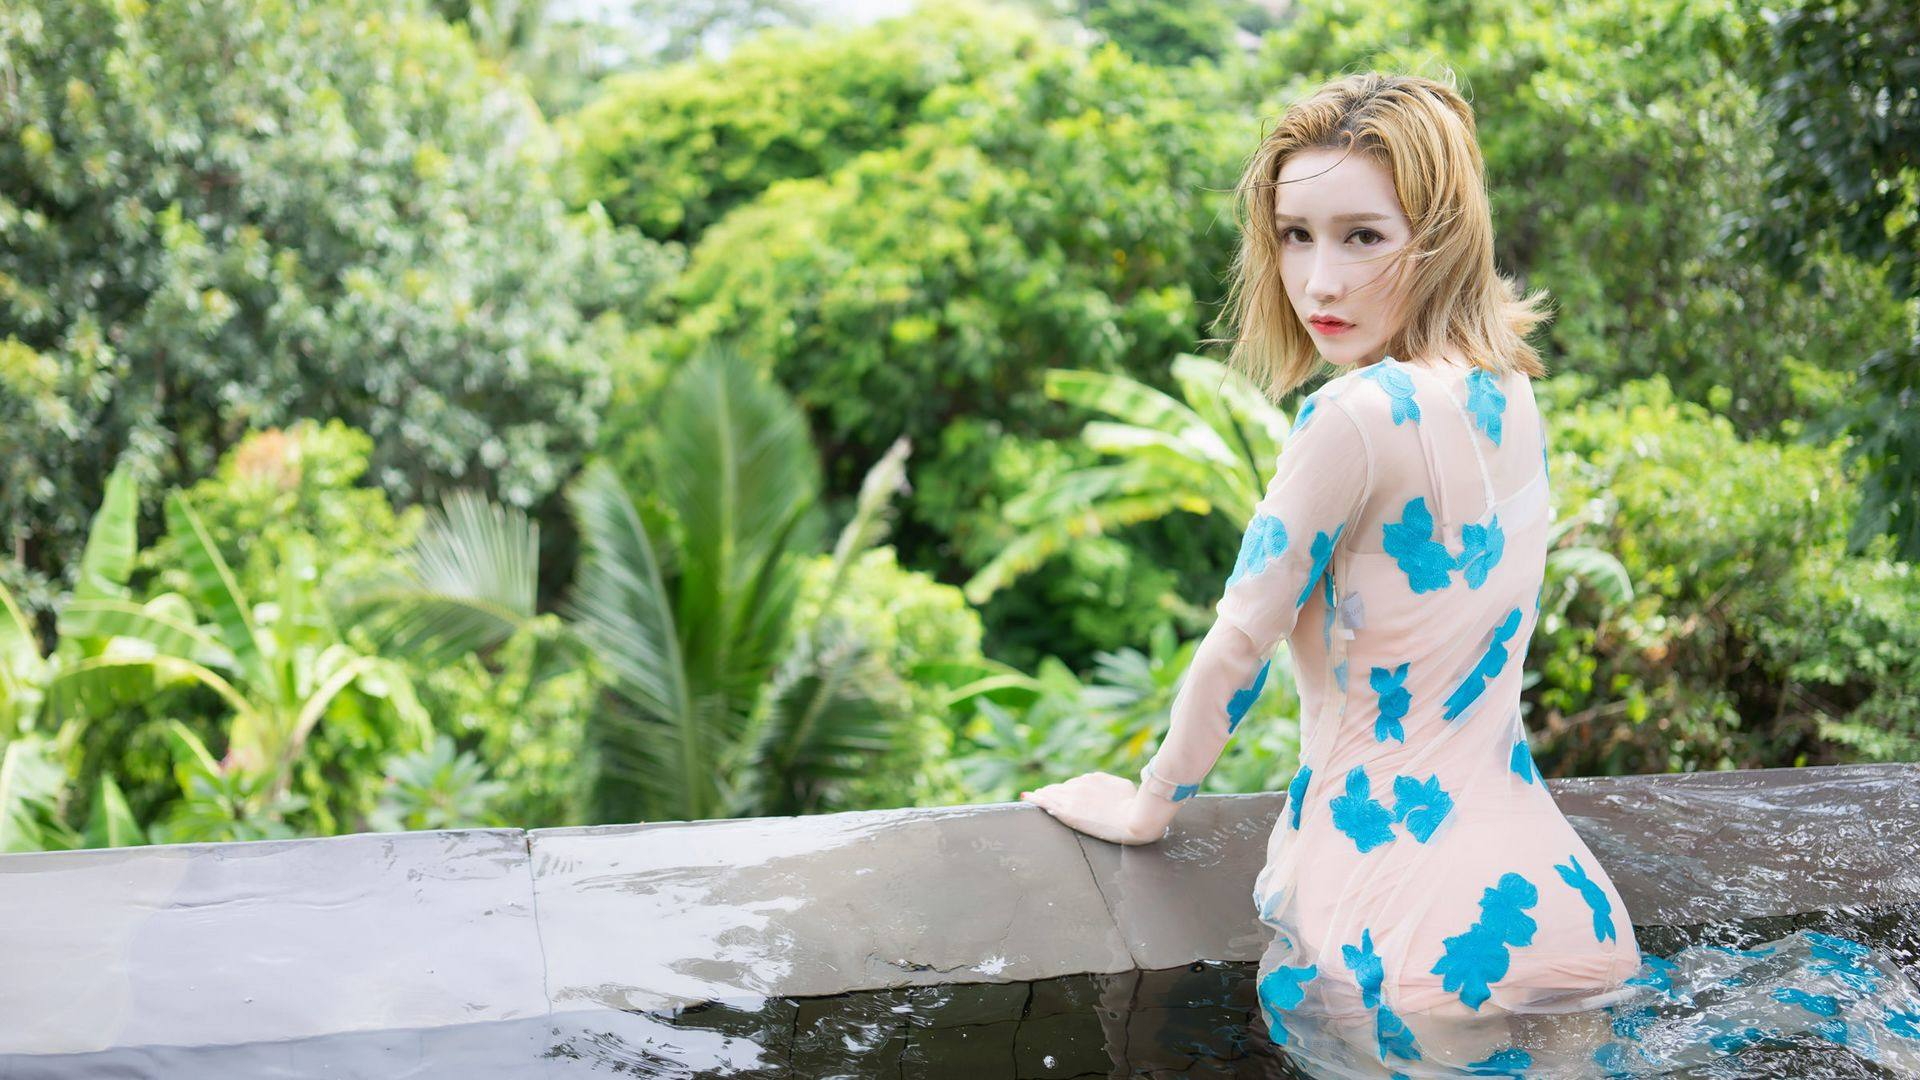person: (1070, 127, 1711, 1030)
